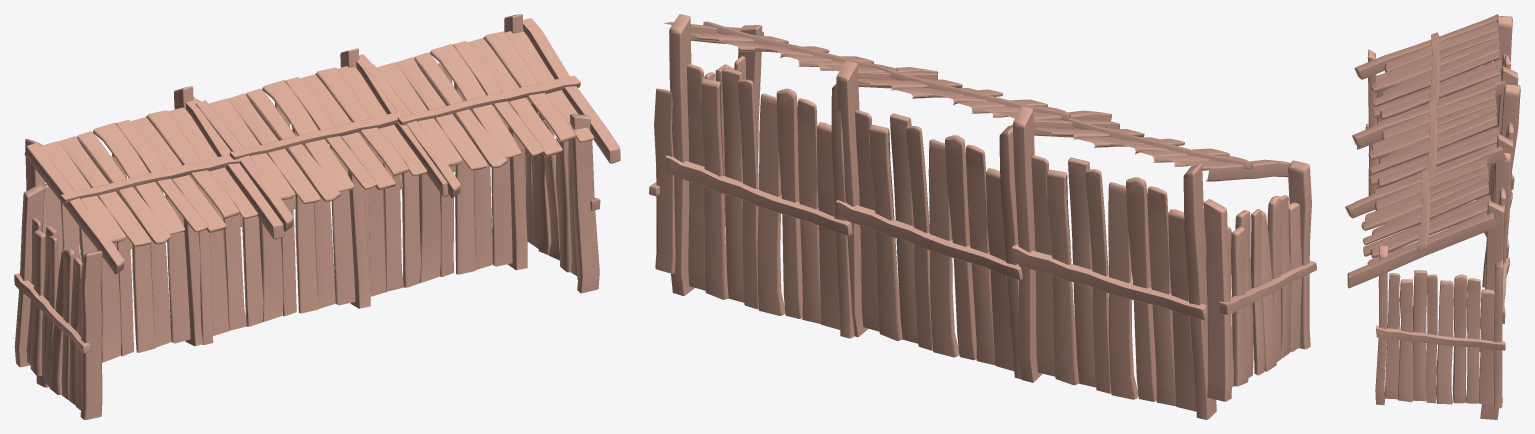
The model's file is prop_shed_02.glb.
3 renders of one model, left to right at view 1: azimuth 30°, elevation 25°; view 2: azimuth 150°, elevation 25°; view 3: azimuth 270°, elevation 25°, orthographic. The views are drawn at different scales.
Visible parts, largest first — view 1: prop_shed_02; view 2: prop_shed_02; view 3: prop_shed_02.
Part boxes in pixels (left/top/right/bottom): prop_shed_02: left=14, top=14, right=620, bottom=419; prop_shed_02: left=649, top=14, right=1316, bottom=419; prop_shed_02: left=1345, top=14, right=1520, bottom=419.
Size of the model in its own units: 5.74 by 2.61 by 1.93.
